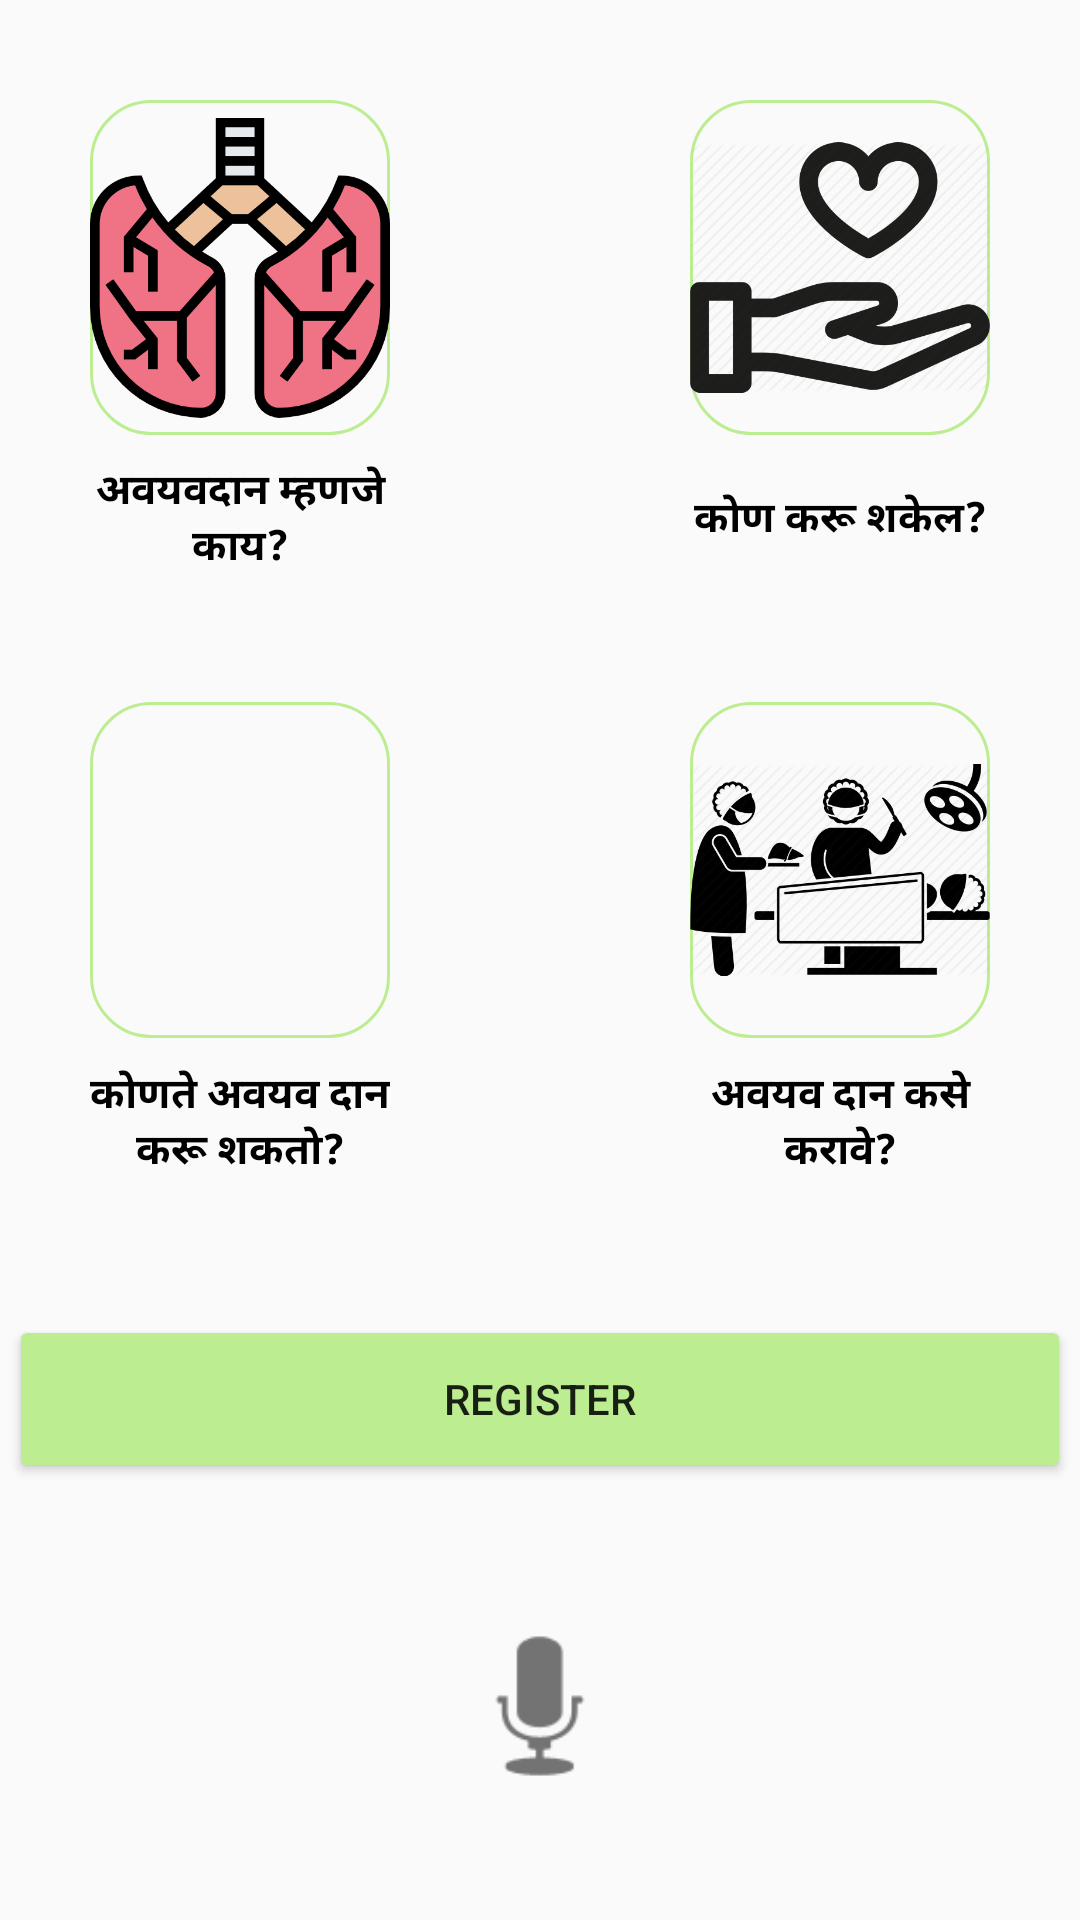

Screen size 1080w x 1920h. Icon name, then its center in pixels as (x=x, y=y):
lungs: (x=240, y=267)
speak now: (x=540, y=1706)
